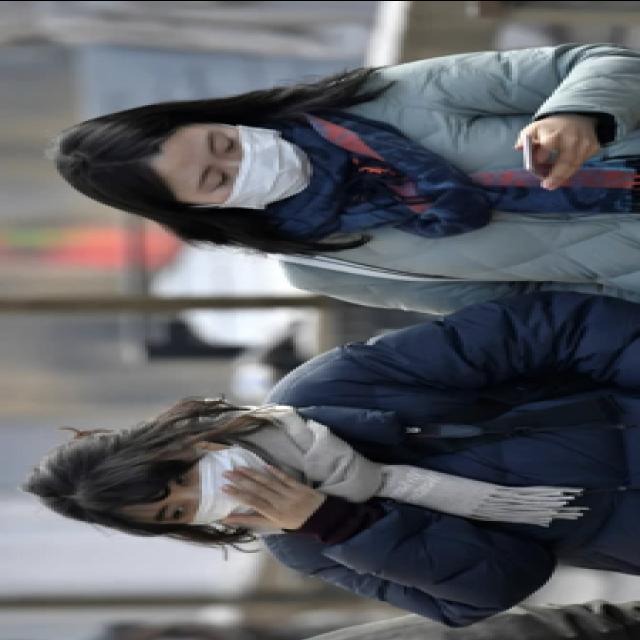mask: (148, 442, 279, 524), (184, 121, 304, 206)
